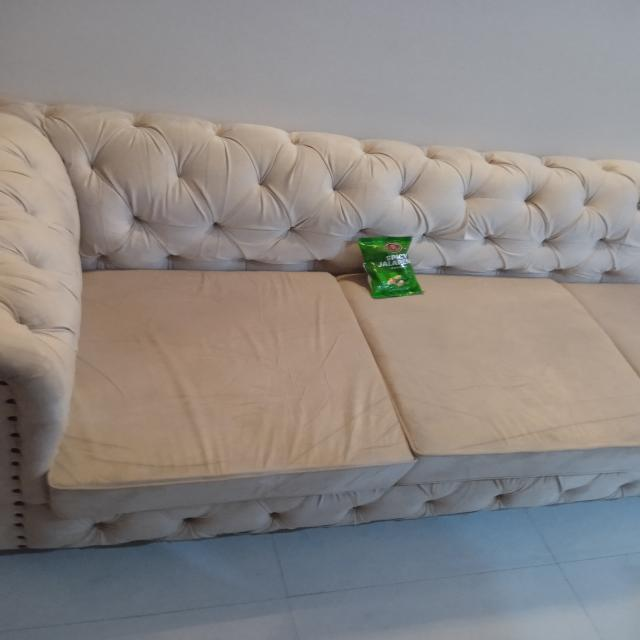Plastic: (355, 234, 426, 298)
